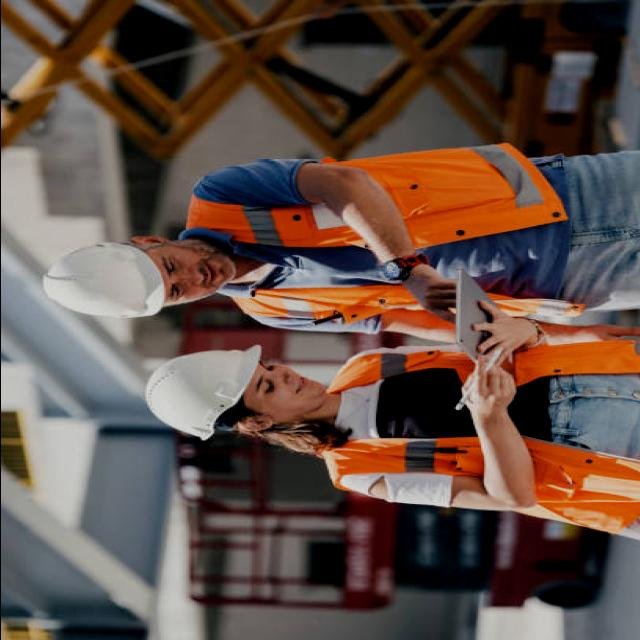Hard Hat: (138, 338, 265, 444), (37, 231, 170, 321)
Reflective Vest: (188, 144, 578, 324), (321, 336, 640, 551)
